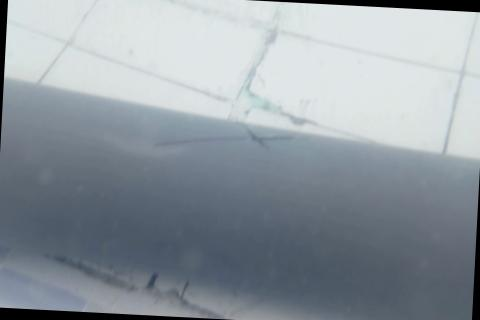keretakan: (149, 119, 296, 159)
